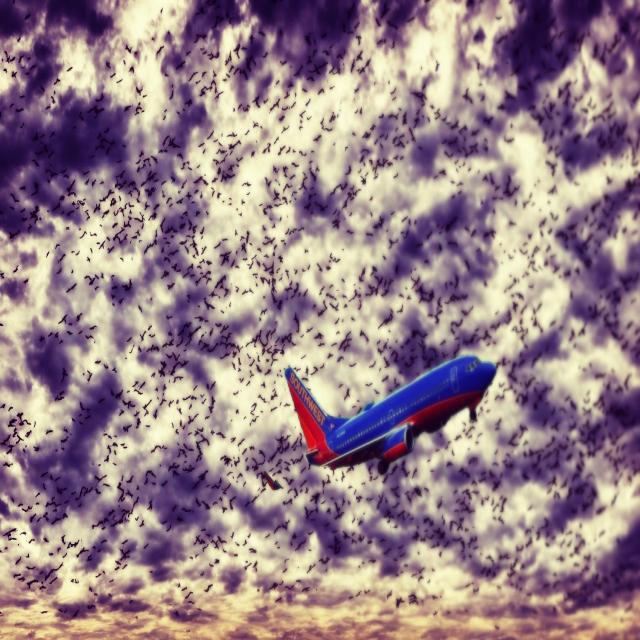airplane: (284, 353, 497, 475)
